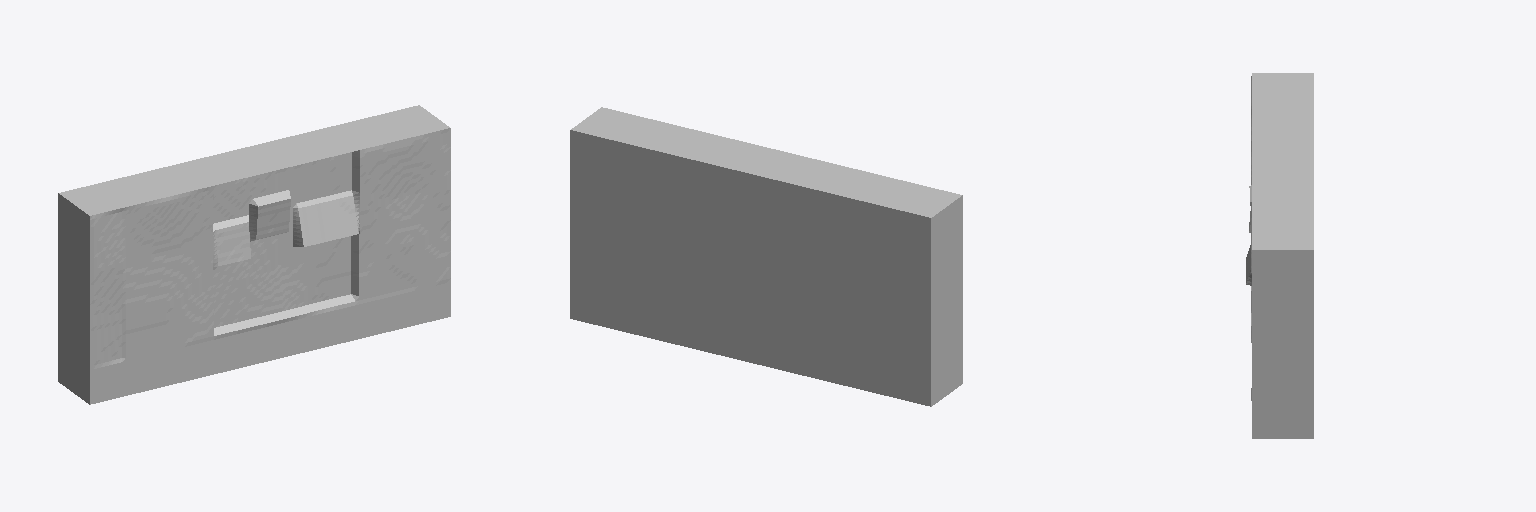
File: rectangular_prism_bumps_2_0.obj
3 views of the same model, side by side, from view 1: azimuth 30°, elevation 25°; view 2: azimuth 150°, elevation 25°; view 3: azimuth 270°, elevation 25° (orthographic).
Size of the model in its own units: 10 by 5 by 1.64.